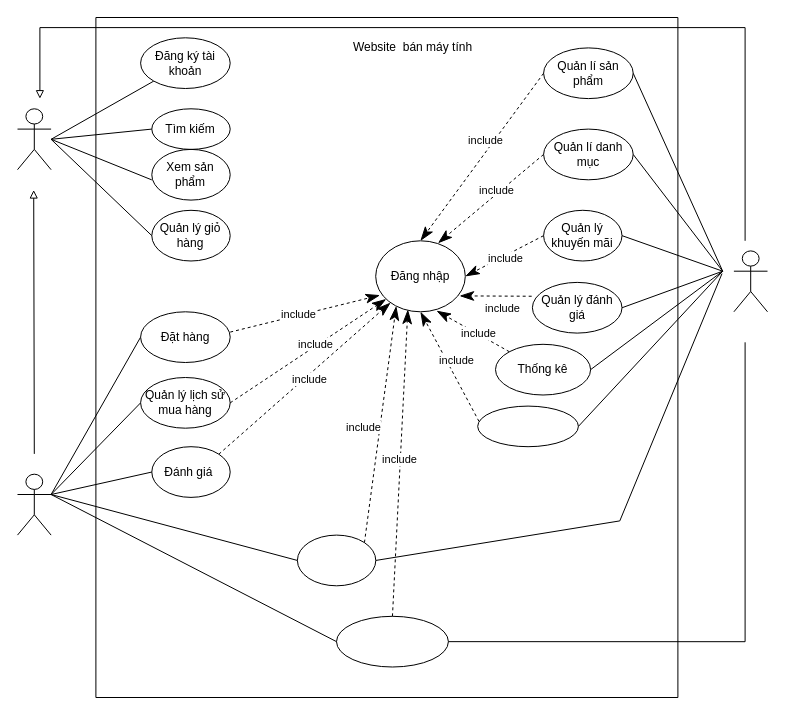
Image size: 785x716. Some labels were removed from this diagram. Here are the shapes that lost their labels. From the top down, the box of each, then its label:
(16, 108, 51, 170): Guest
(733, 250, 768, 312): Admin
(477, 405, 578, 447): Quản lý thuế
(16, 473, 51, 535): User
(296, 534, 376, 586): Chat trực tiếp
(336, 615, 448, 667): Quản lý thôi tin tài khoản
